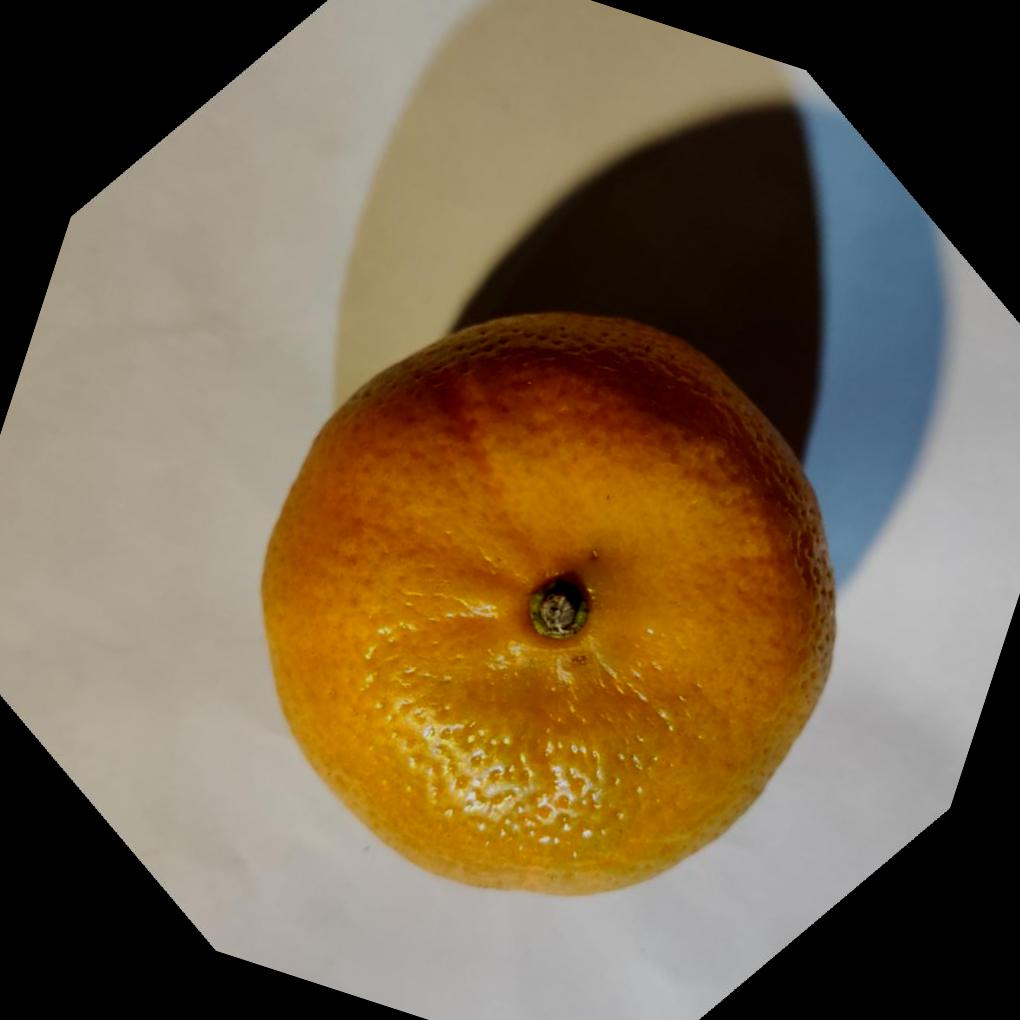FreshGuava: (255, 306, 835, 897)
